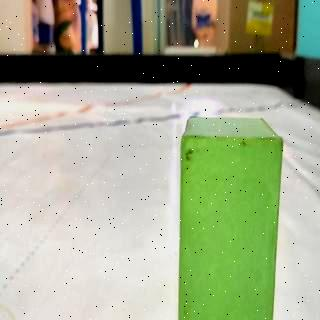greenbox: (176, 112, 286, 320)
